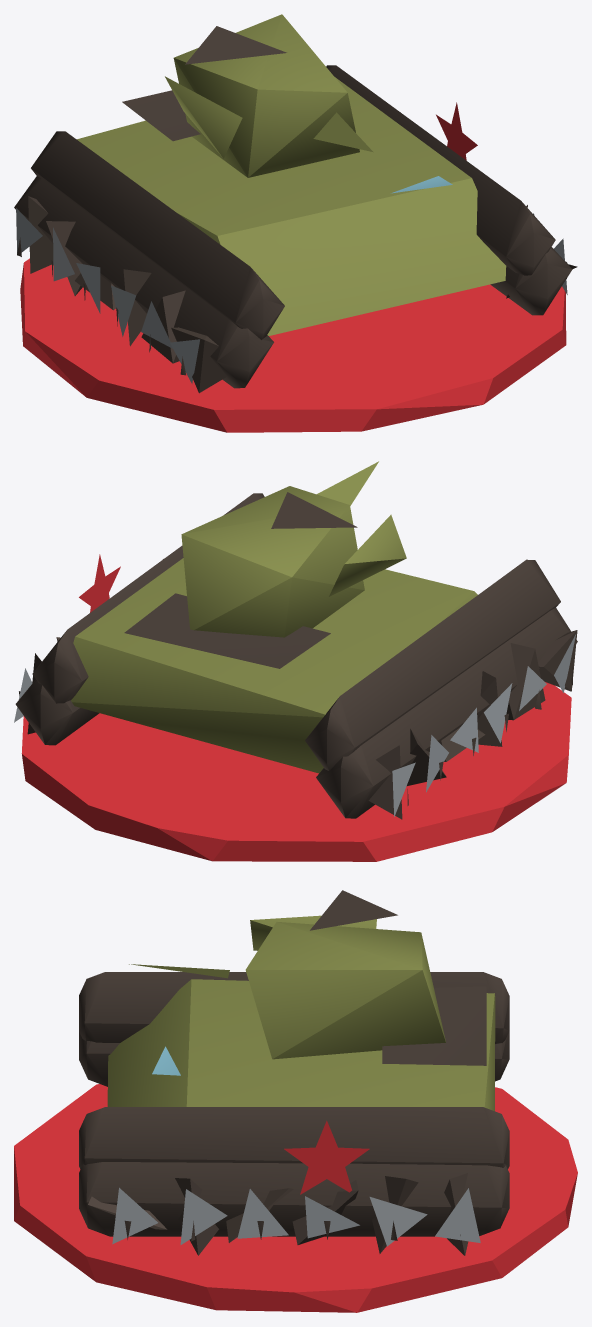
File: soviet_union_infantry_lod1.glb
The picture shows the model from 3 angles, top to bottom: view 1: azimuth 30°, elevation 25°; view 2: azimuth 150°, elevation 25°; view 3: azimuth 270°, elevation 25°; orthographic projection. The views are drawn at different scales.
Visible parts, largest first — view 1: body_hull, base_pedestal; view 2: body_hull, base_pedestal; view 3: body_hull, base_pedestal.
Boxes of the visible parts, x1,y1,x2,y2 form: body_hull: (14,14,577,393); base_pedestal: (20,258,566,432); body_hull: (14,461,577,819); base_pedestal: (21,682,571,861); body_hull: (79,890,509,1255); base_pedestal: (14,1084,577,1312).
Bounding box in the file's own units: 0.7751 × 0.4039 × 0.7751.
